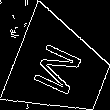M_SE: (31, 38, 90, 99)
